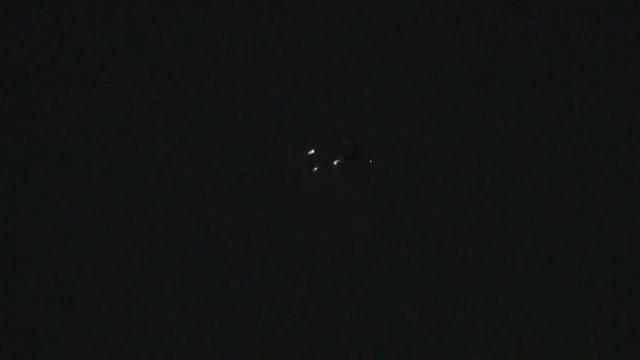Plane: (284, 142, 365, 180)
